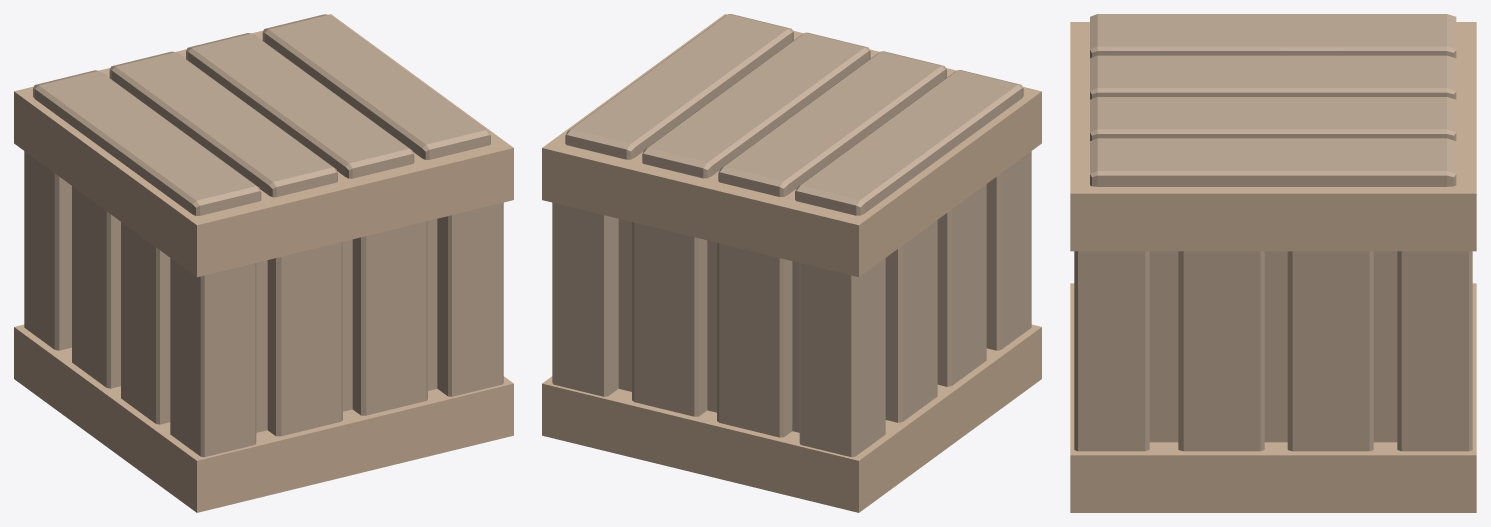
File: case.FBX
The picture shows the model from 3 angles, left to right: view 1: azimuth 30°, elevation 25°; view 2: azimuth 150°, elevation 25°; view 3: azimuth 270°, elevation 25°; orthographic projection. The views are drawn at different scales.
Parts seen in each view (by area): view 1: obj_05; view 2: obj_05; view 3: obj_05.
Part boxes in pixels (bbox=[...]): obj_05: bbox=[14, 14, 513, 512]; obj_05: bbox=[542, 14, 1041, 512]; obj_05: bbox=[1070, 14, 1476, 512].
Size of the model in its own units: 203 by 184 by 203.
Materials: 1 (1 with a texture image).
